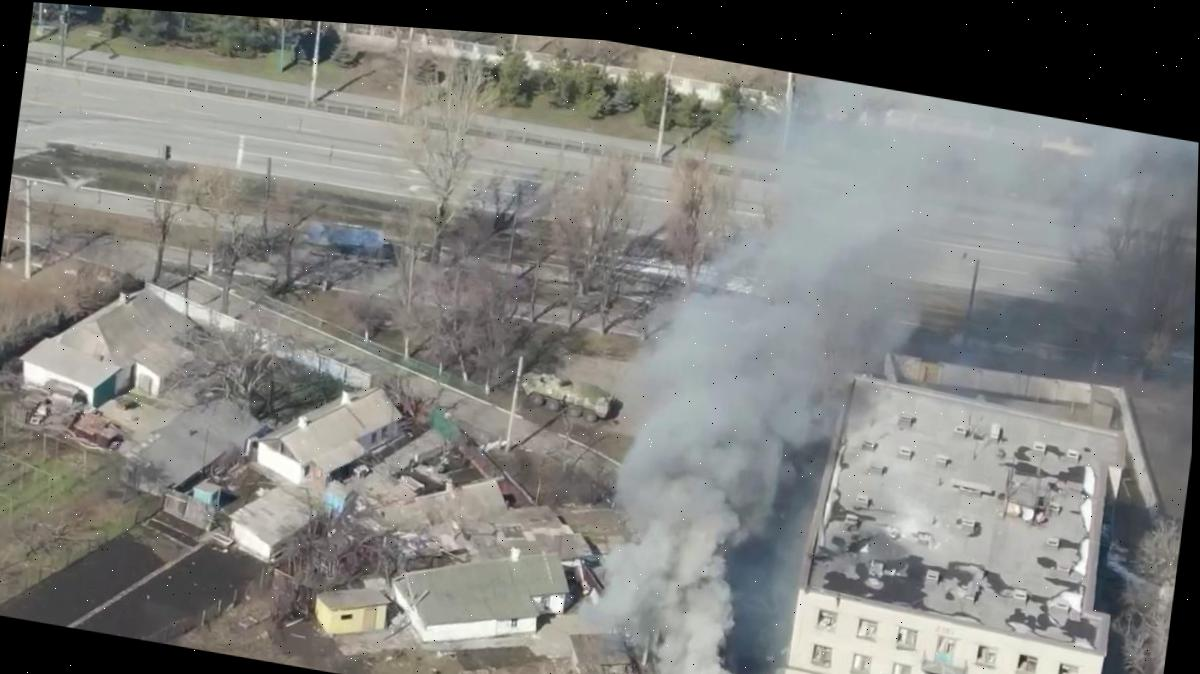tank: (511, 361, 619, 429)
